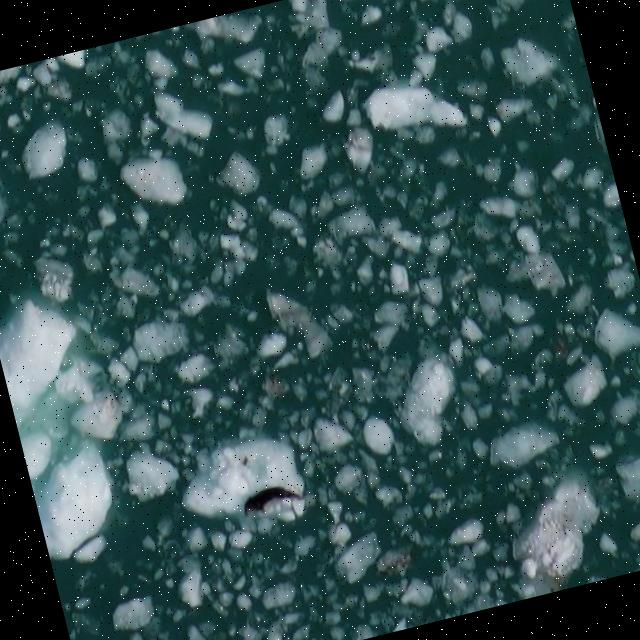seal: (244, 484, 303, 511)
